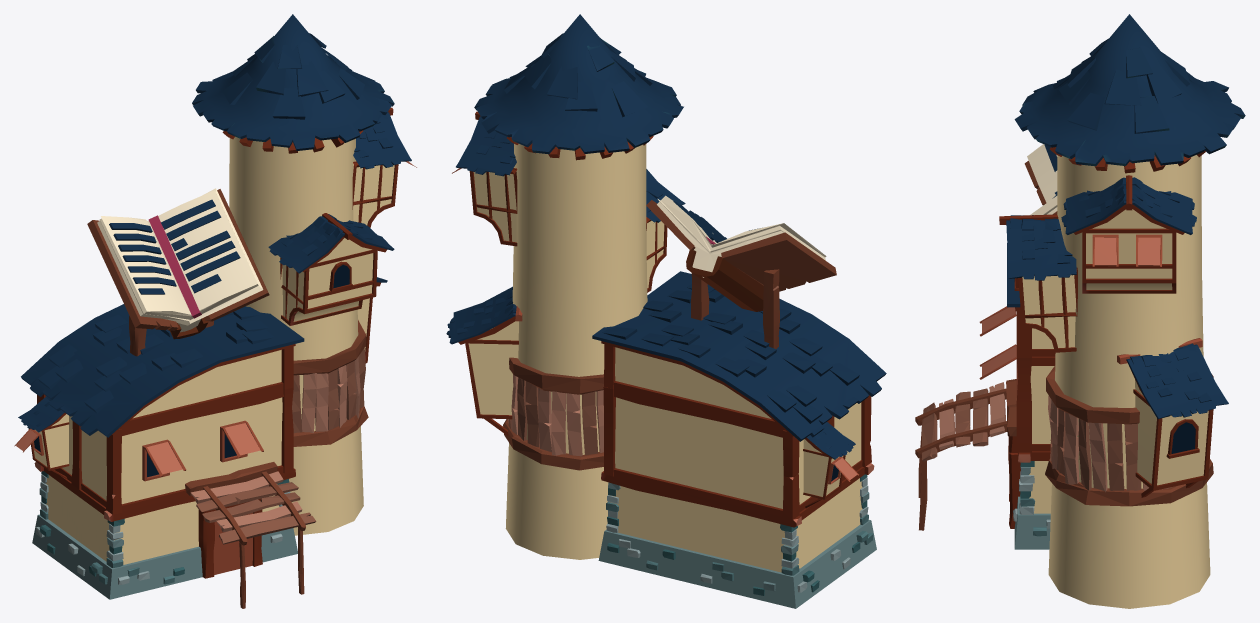
File: SM_Library_LODS_Group.fbx
3 views of the same model, side by side, from view 1: azimuth 30°, elevation 25°; view 2: azimuth 150°, elevation 25°; view 3: azimuth 270°, elevation 25° (orthographic). The views are drawn at different scales.
Parts seen in each view (by area): view 1: SM_Library_LOD0; view 2: SM_Library_LOD0; view 3: SM_Library_LOD0.
Part boxes in pixels (bbox=[...]): SM_Library_LOD0: bbox=[14, 14, 416, 608]; SM_Library_LOD0: bbox=[446, 14, 886, 608]; SM_Library_LOD0: bbox=[915, 14, 1245, 608].
Size of the model in its own units: 531 by 353 by 662.
Materials: 1 (1 with a texture image).
